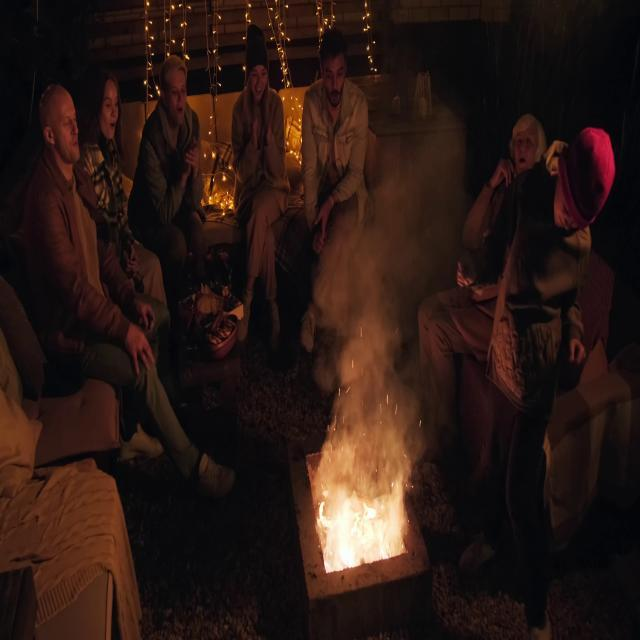Fire: (316, 466, 406, 568)
Smoke: (312, 108, 462, 454)
